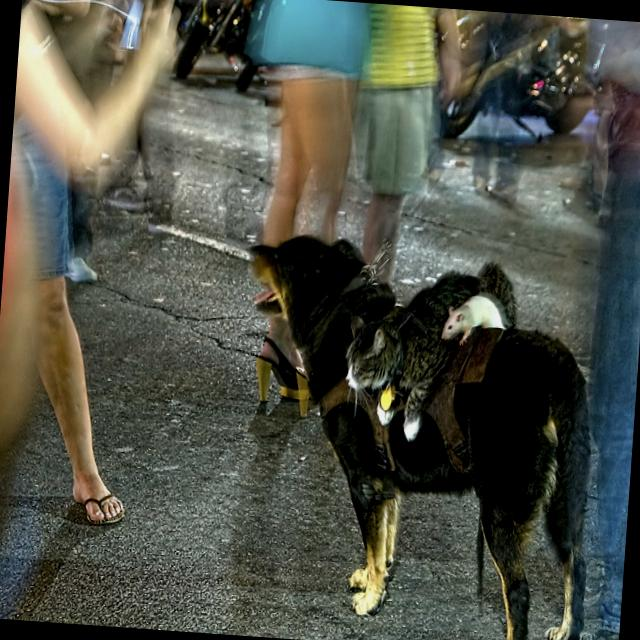Vehicle: (168, 0, 246, 83), (221, 0, 263, 97)
